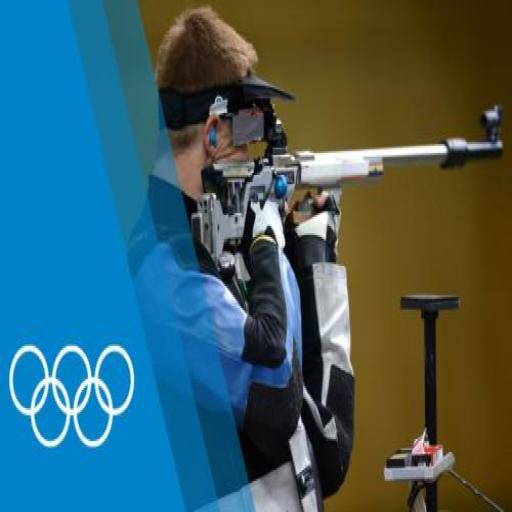shooting: (100, 55, 512, 287)
